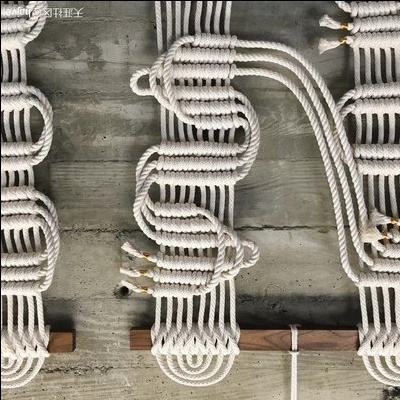9/可回收垃圾/绳子: (119, 1, 400, 388), (1, 1, 59, 389), (288, 323, 299, 400)
